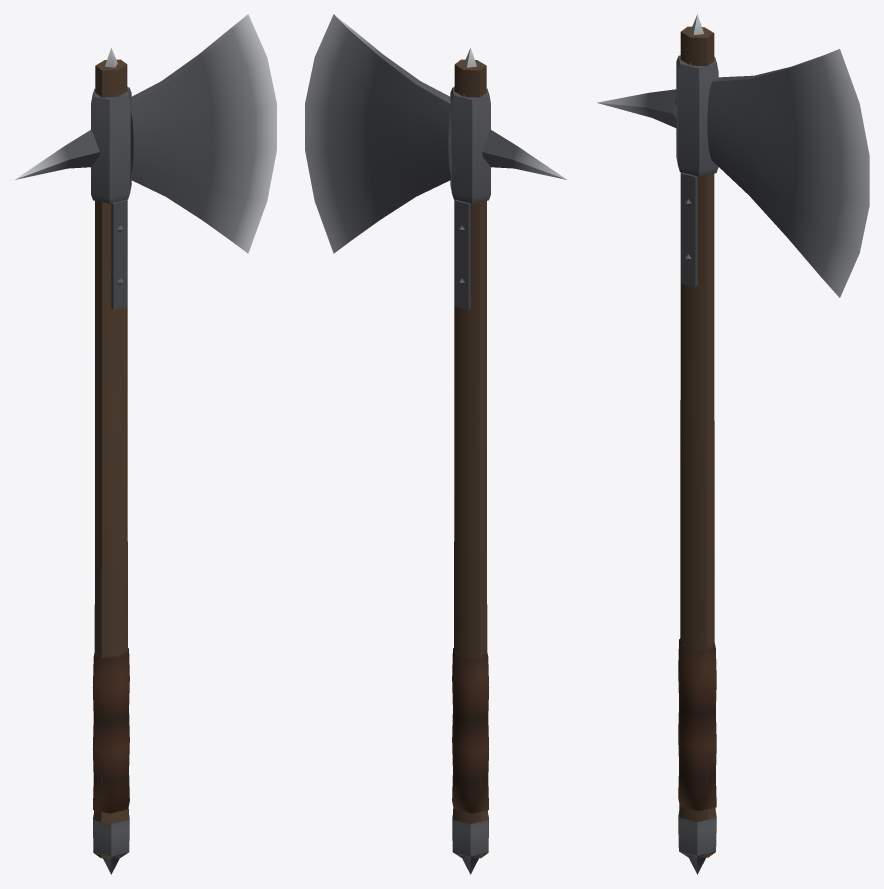
File: axe_war.glb
3 views of the same model, side by side, from view 1: azimuth 30°, elevation 25°; view 2: azimuth 150°, elevation 25°; view 3: azimuth 330°, elevation 25° (orthographic). The views are drawn at different scales.
Visible parts, largest first — view 1: axe_war; view 2: axe_war; view 3: axe_war.
Boxes of the visible parts, x1,y1,x2,y2 form: axe_war: (15,14,276,874); axe_war: (305,14,566,874); axe_war: (597,14,869,874).
Bounding box in the file's own units: 0.2648 × 0.797 × 0.037.
